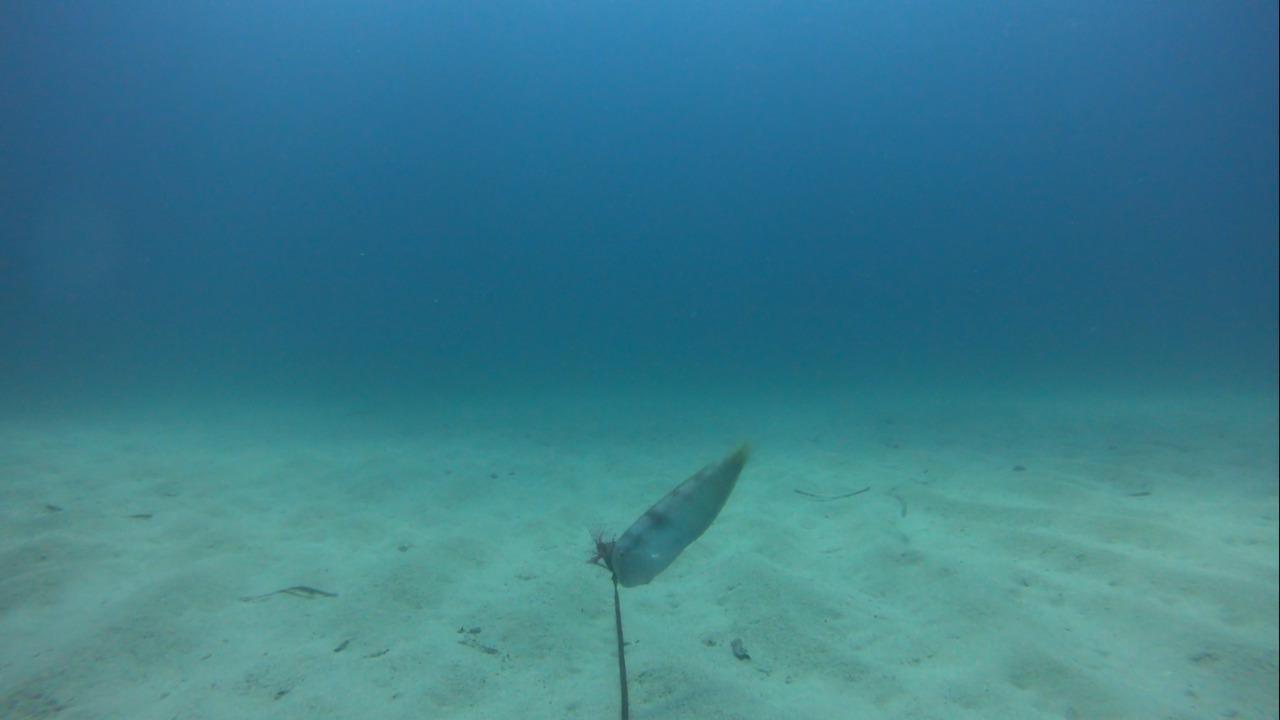raor: (608, 442, 758, 592)
